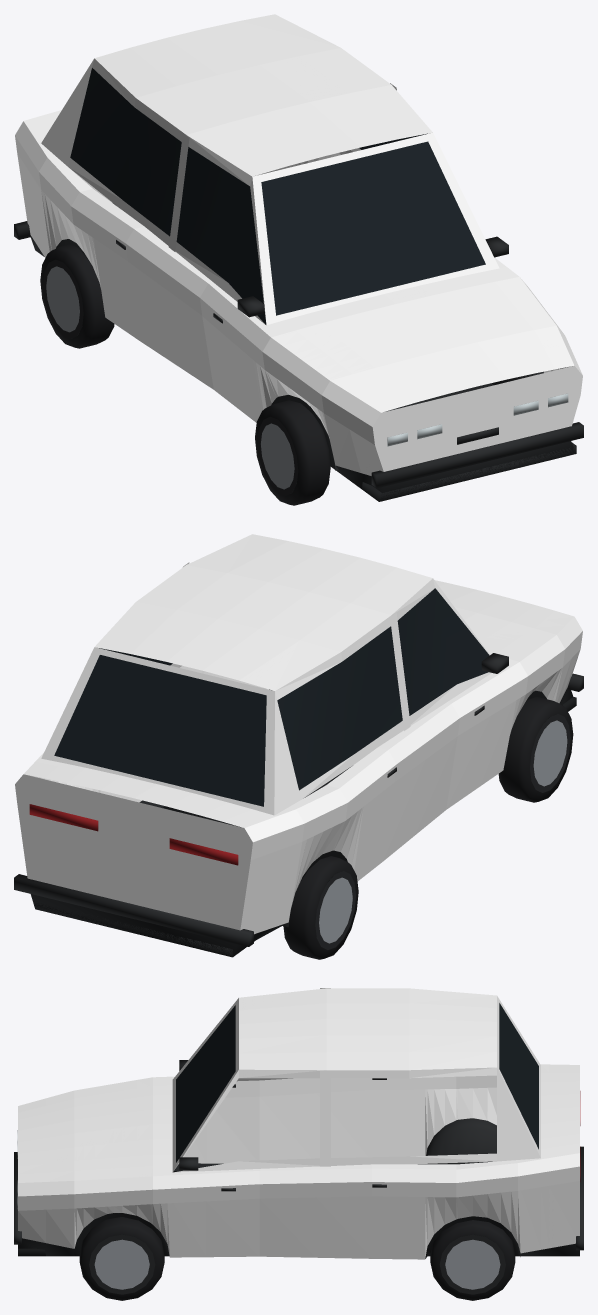
The model's file is mizuchi_canoa.glb.
The picture shows the model from 3 angles, top to bottom: view 1: azimuth 30°, elevation 25°; view 2: azimuth 150°, elevation 25°; view 3: azimuth 270°, elevation 25°; orthographic projection. The views are drawn at different scales.
Parts seen in each view (by area): view 1: Body_Paint, Body_Details, Mount_FrontLeft_Wheel_Details, Mount_RearLeft_Wheel_Details; view 2: Body_Paint, Body_Details, Mount_FrontLeft_Wheel_Details, Mount_RearLeft_Wheel_Details; view 3: Body_Paint, Body_Details, Mount_FrontRight_Wheel_Details, Mount_RearRight_Wheel_Details.
Boxes of the visible parts, x1=… form: Body_Paint: x1=15, y1=14, x2=582, y2=475; Body_Details: x1=14, y1=68, x2=583, y2=501; Mount_FrontLeft_Wheel_Details: x1=255, y1=400, x2=330, y2=505; Mount_RearLeft_Wheel_Details: x1=40, y1=244, x2=114, y2=348; Body_Paint: x1=15, y1=534, x2=582, y2=934; Body_Details: x1=14, y1=588, x2=583, y2=957; Mount_FrontLeft_Wheel_Details: x1=498, y1=697, x2=573, y2=802; Mount_RearLeft_Wheel_Details: x1=283, y1=856, x2=358, y2=959; Body_Paint: x1=18, y1=988, x2=579, y2=1259; Body_Details: x1=14, y1=1003, x2=583, y2=1258; Mount_FrontRight_Wheel_Details: x1=79, y1=1217, x2=164, y2=1300; Mount_RearRight_Wheel_Details: x1=430, y1=1220, x2=515, y2=1300.
Size of the model in its own units: 1.78 by 1.67 by 3.88.
2 materials, 1 textured.
